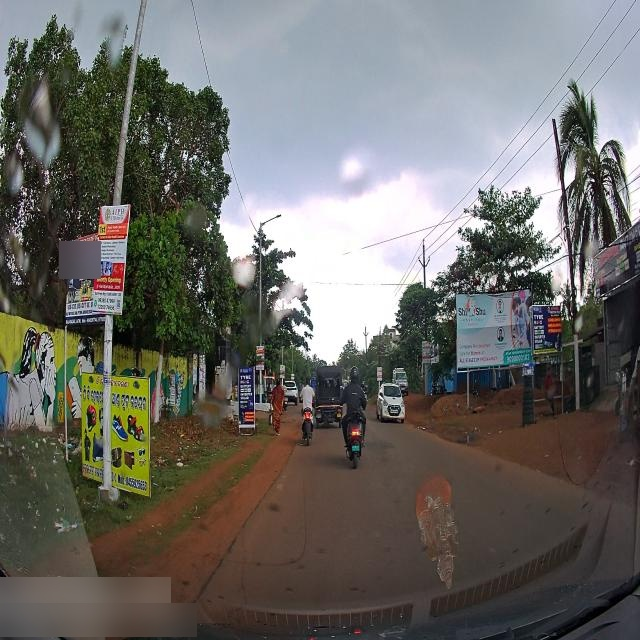pothole: (417, 419, 489, 451)
